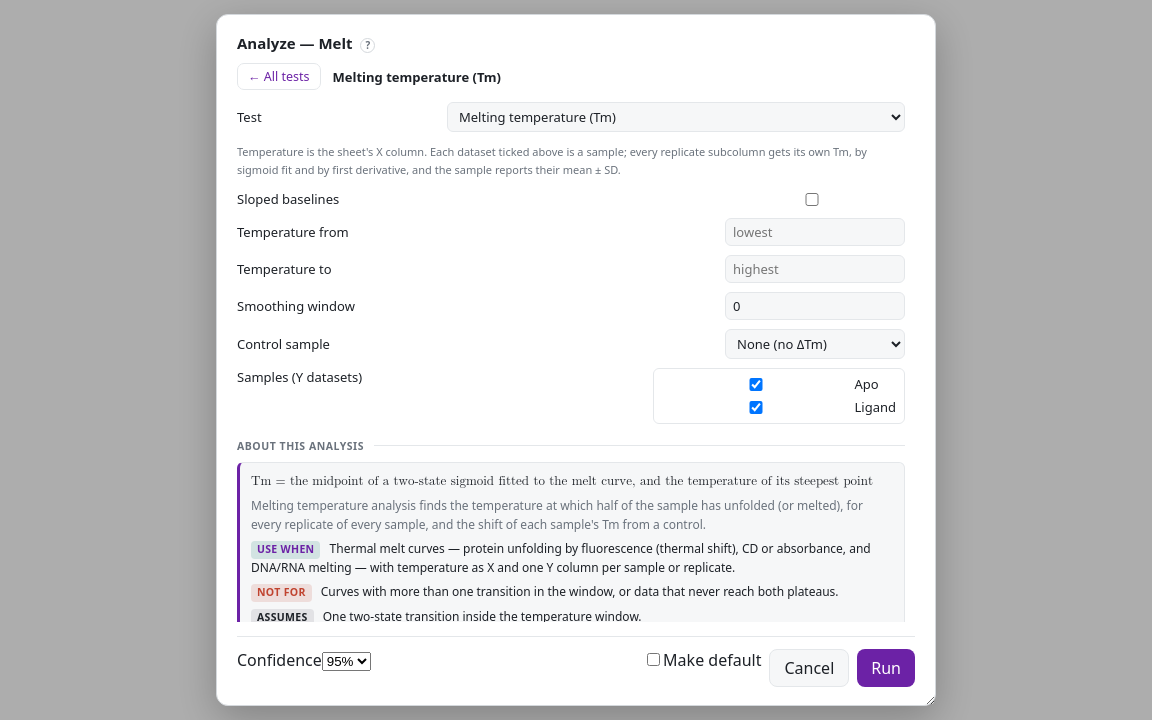
Test: Analyze ▸ Melting temperature › an empty temperature window disables Run and says why; no sample says so too
Type "70" into the number field labelled "Temperature from".
click(815, 232); type("70")  # box [725,218,905,246]
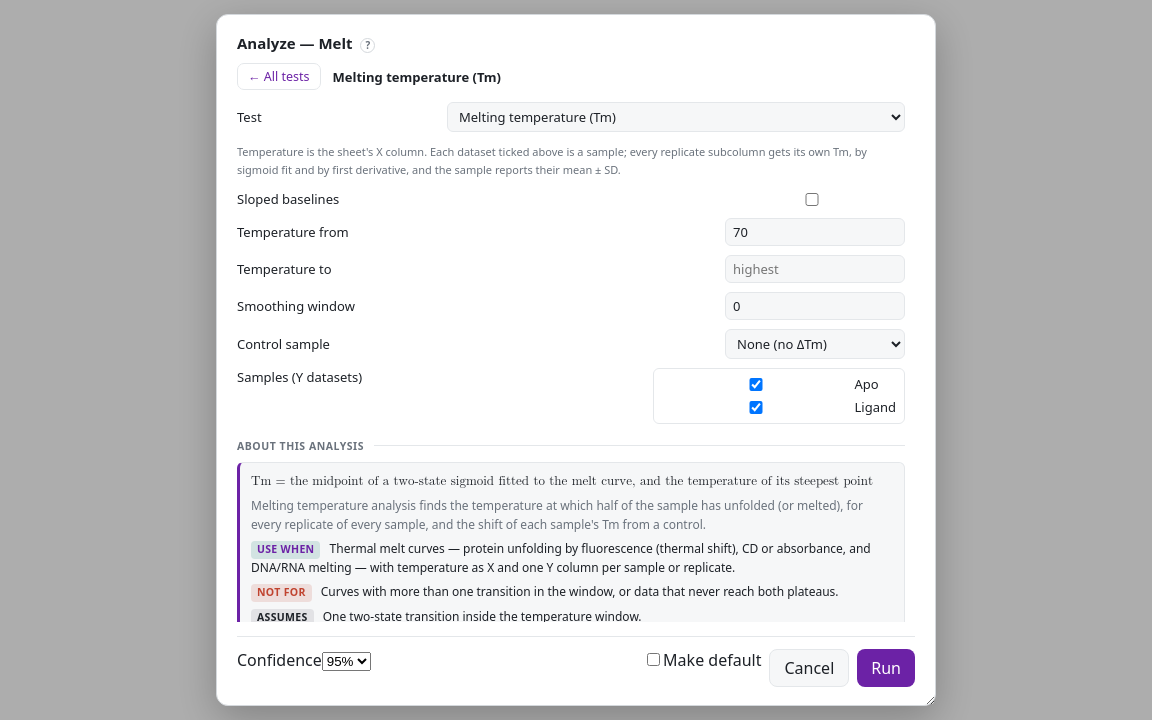
Type "40" into the number field labelled "Temperature to".
click(815, 269); type("40")  # box [725,255,905,283]
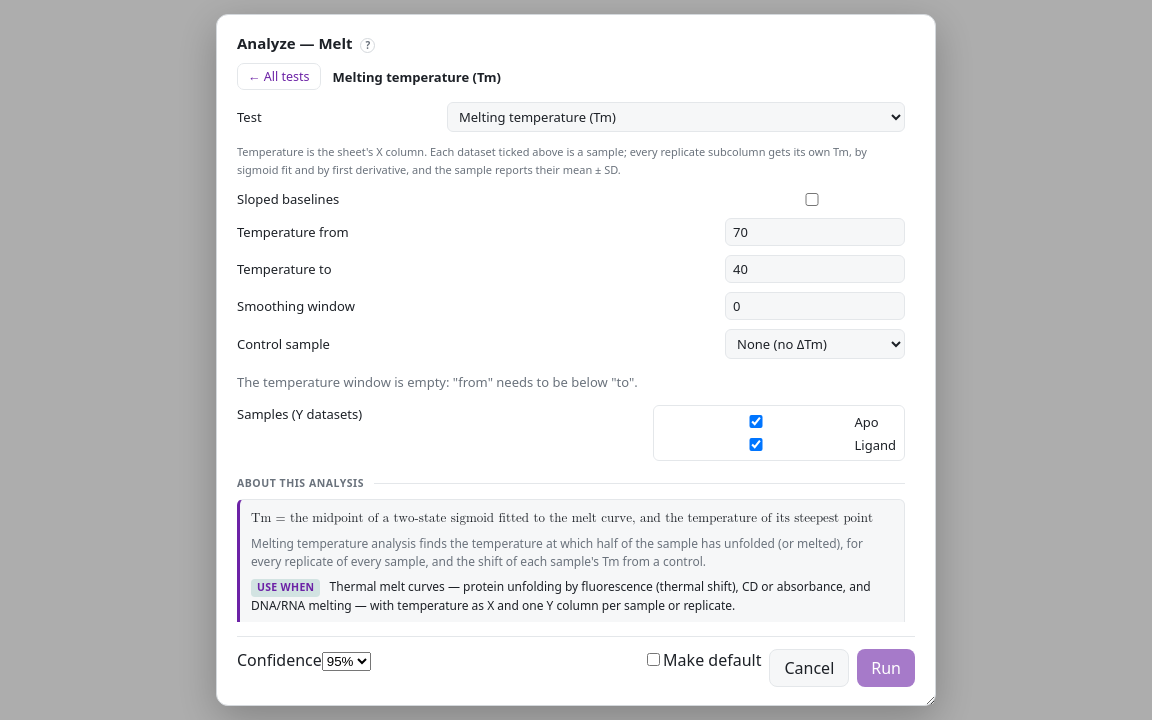
Expected: the button "Run" is disabled, [857,649,915,687]
Expected: the text "The temperature window is empty" is shown, [237,373,638,391]
Clear the number field labelled "Temperature to" at (815, 269), box [725,255,905,283]
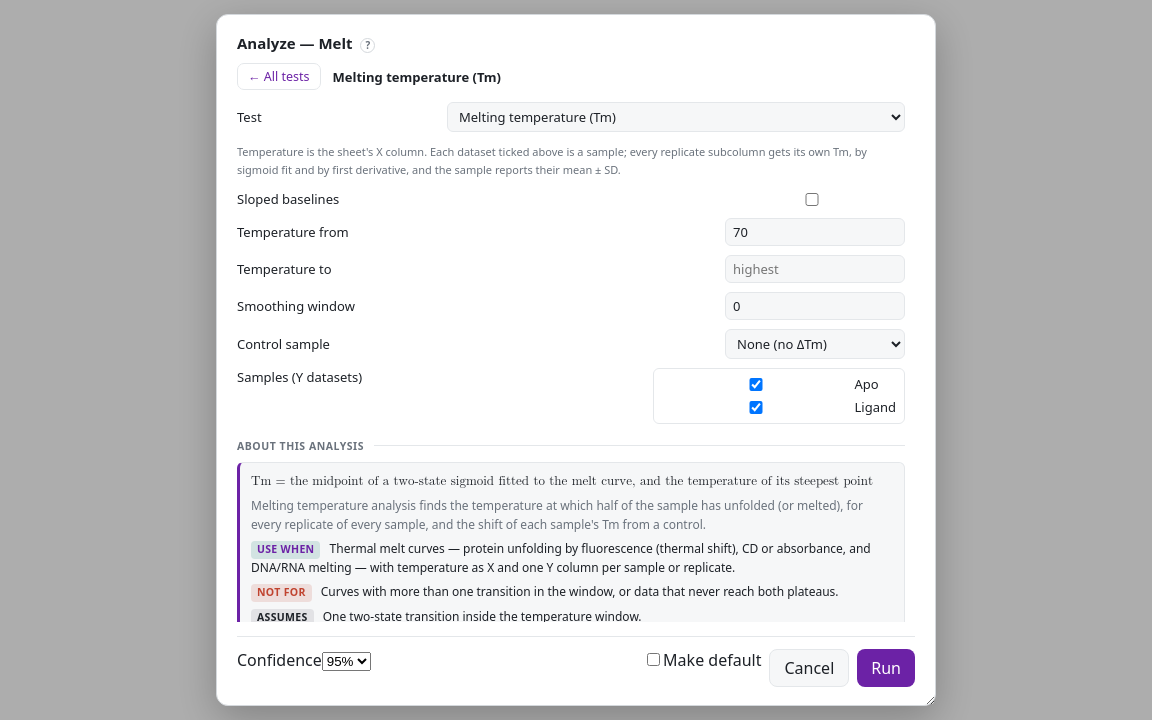
Expected: the button "Run" is enabled, [857,649,915,687]
Click the checkbox labelled "Apo".
click(756, 384)  # box [666,378,846,391]
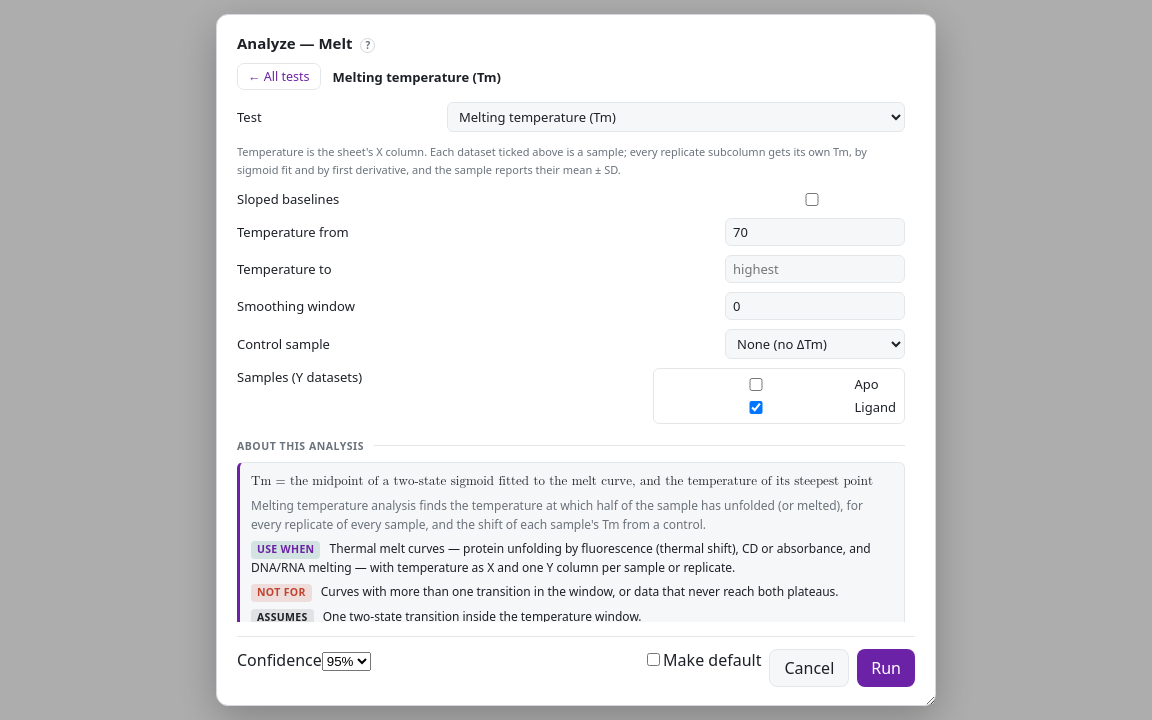
Click the checkbox labelled "Ligand".
click(756, 407)  # box [666,401,846,414]
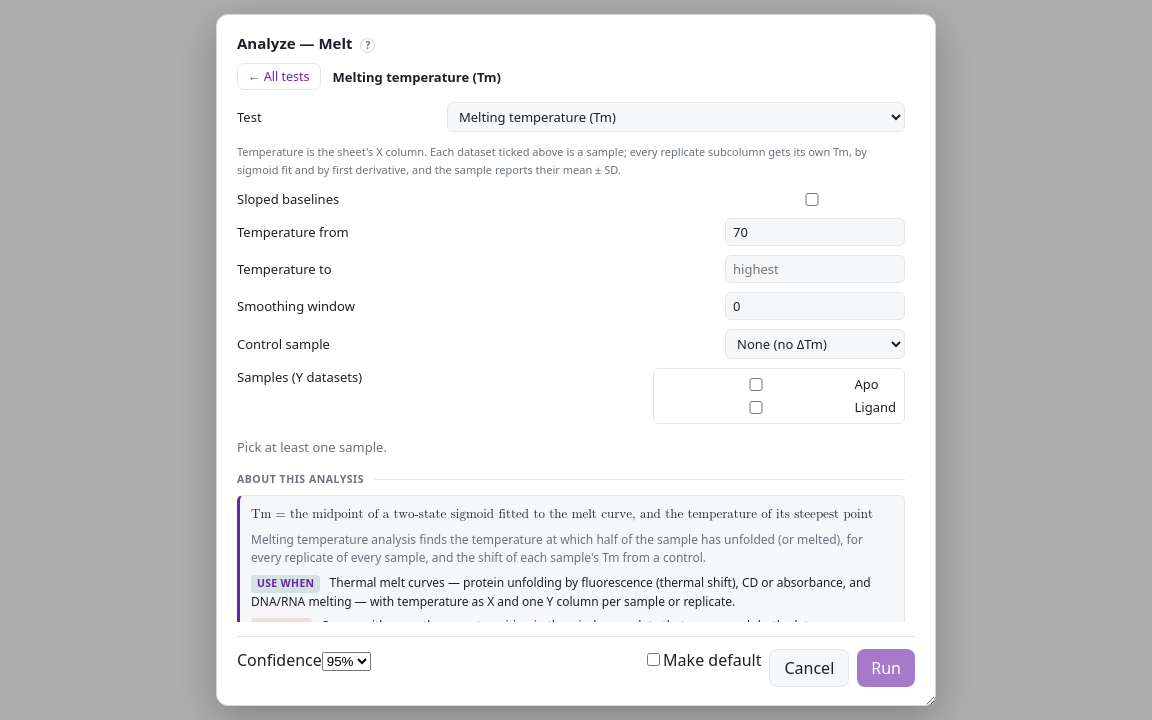
Expected: the button "Run" is disabled, [857,649,915,687]
Expected: the text "Pick at least one sample." is shown, [237,438,387,456]
